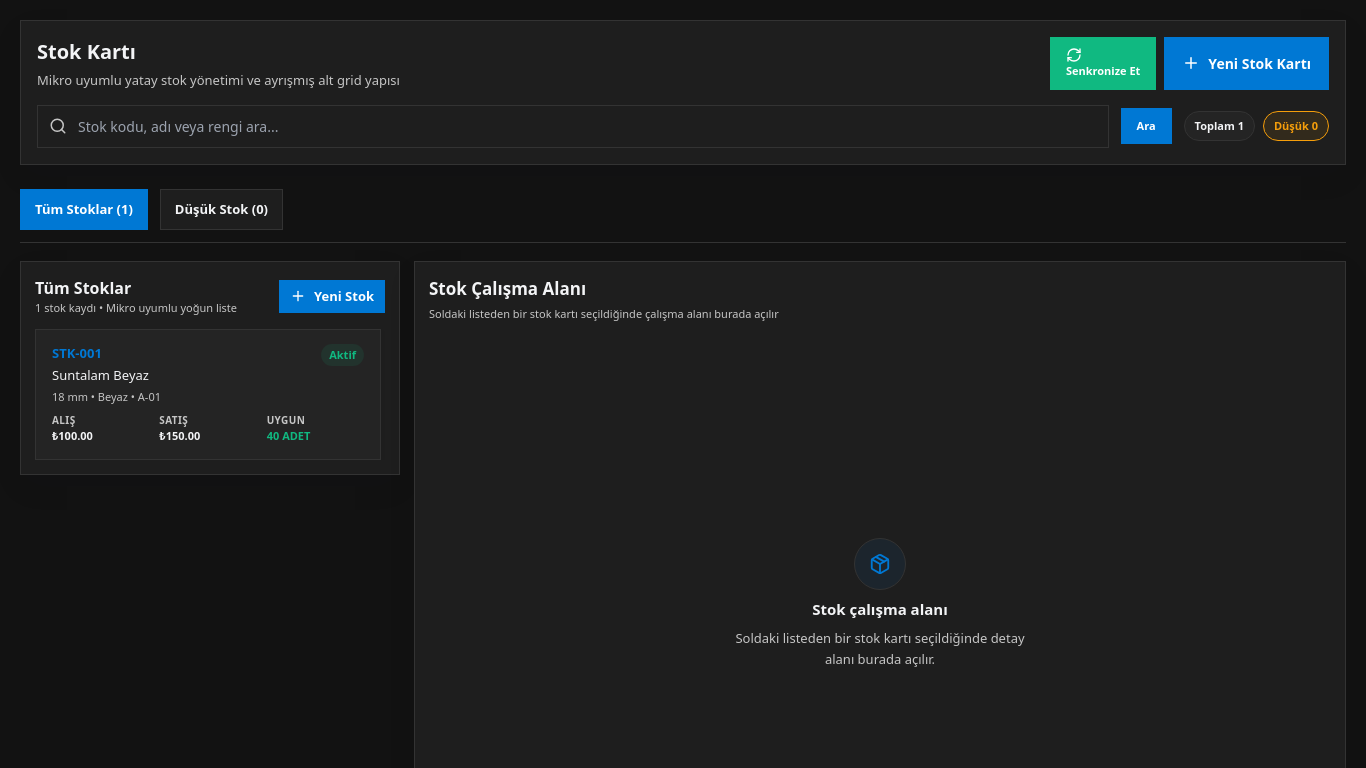
Scenario: StockCardComponent › stok detayinda barkod ve satis fiyat child tablolarini teknik panel ile birlikte gosterir
Click the text "STK-001" at (77, 352), box [52,344,102,362]
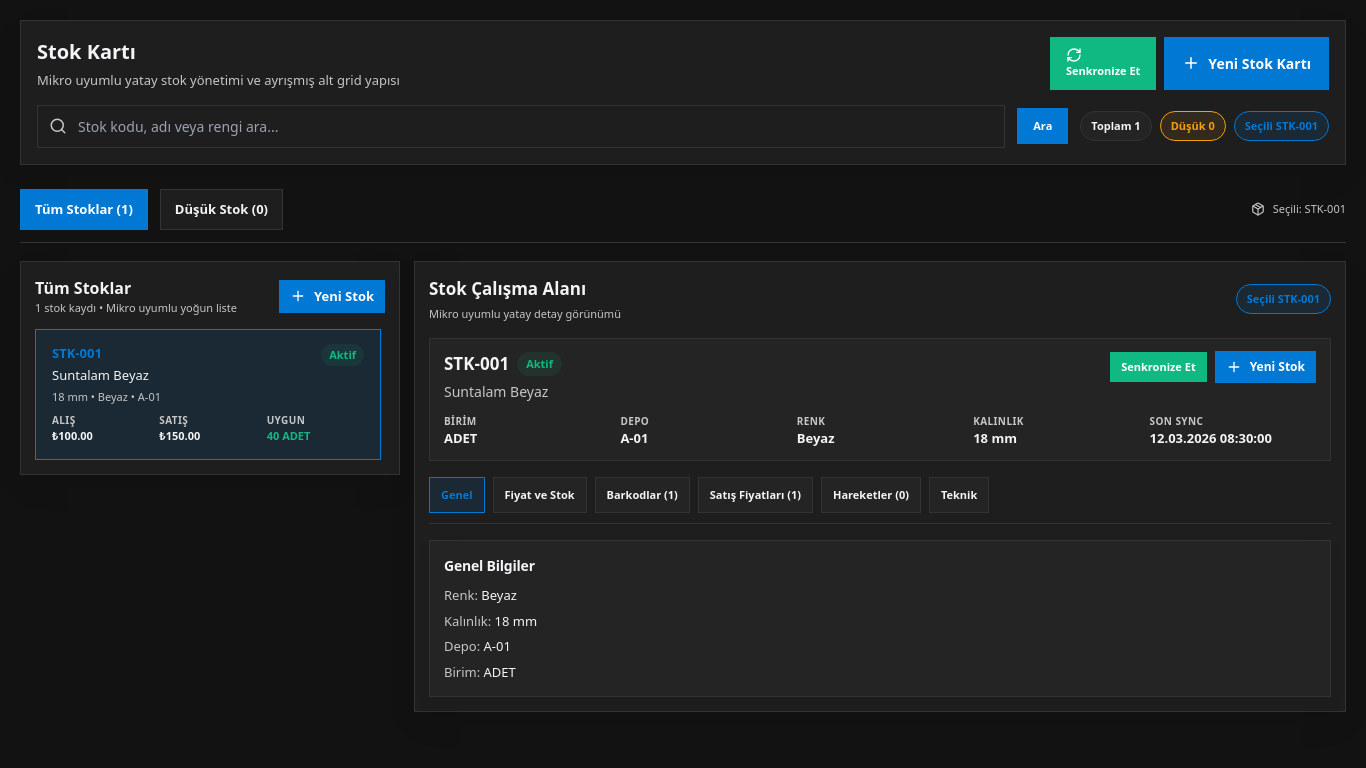
Now the heading "Genel Bilgiler" is shown, box [444,556,535,575]
Click the button "Fiyat ve Stok" at (540, 495), box [493,477,587,513]
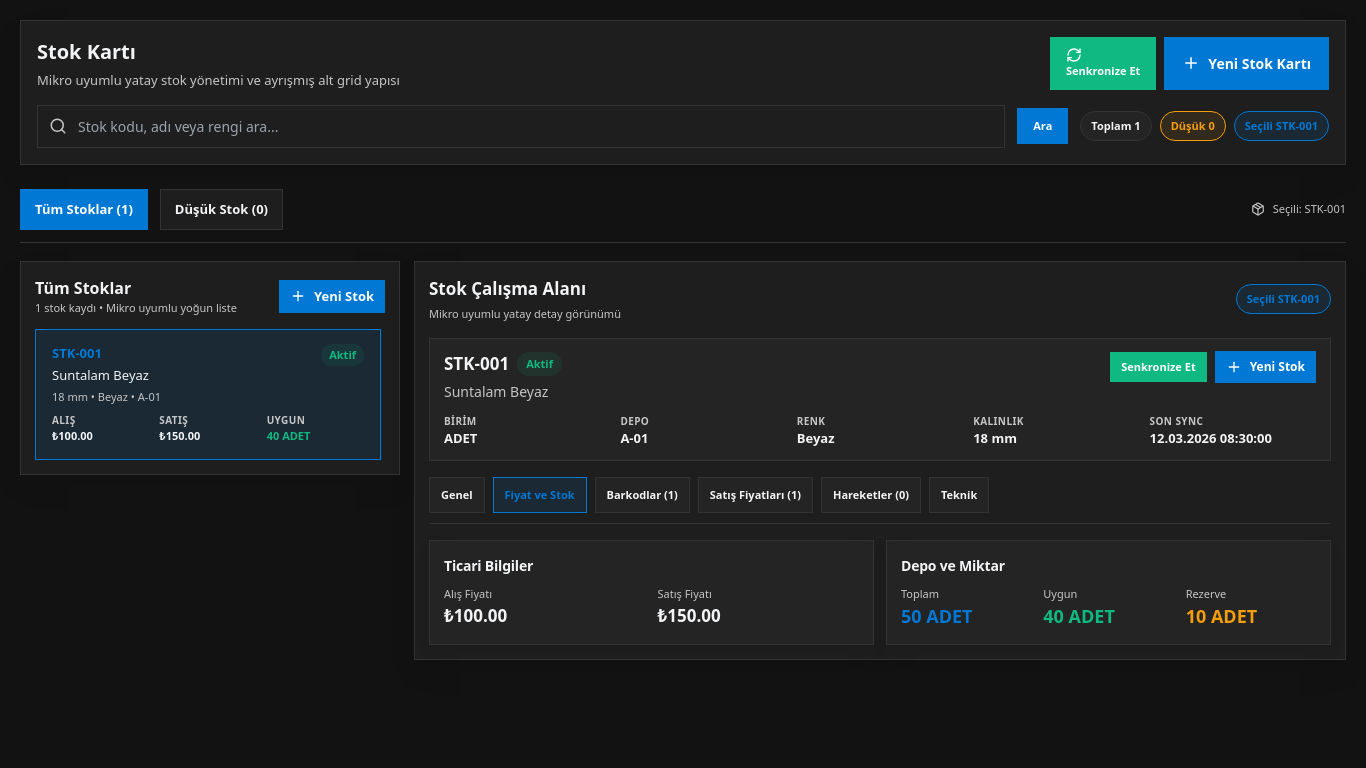
Now the heading "Ticari Bilgiler" is shown, box [444,556,533,575]
Now the heading "Depo ve Miktar" is shown, box [901,556,1005,575]
Click the button "Barkodlar (1)" at (642, 495), box [595,477,690,513]
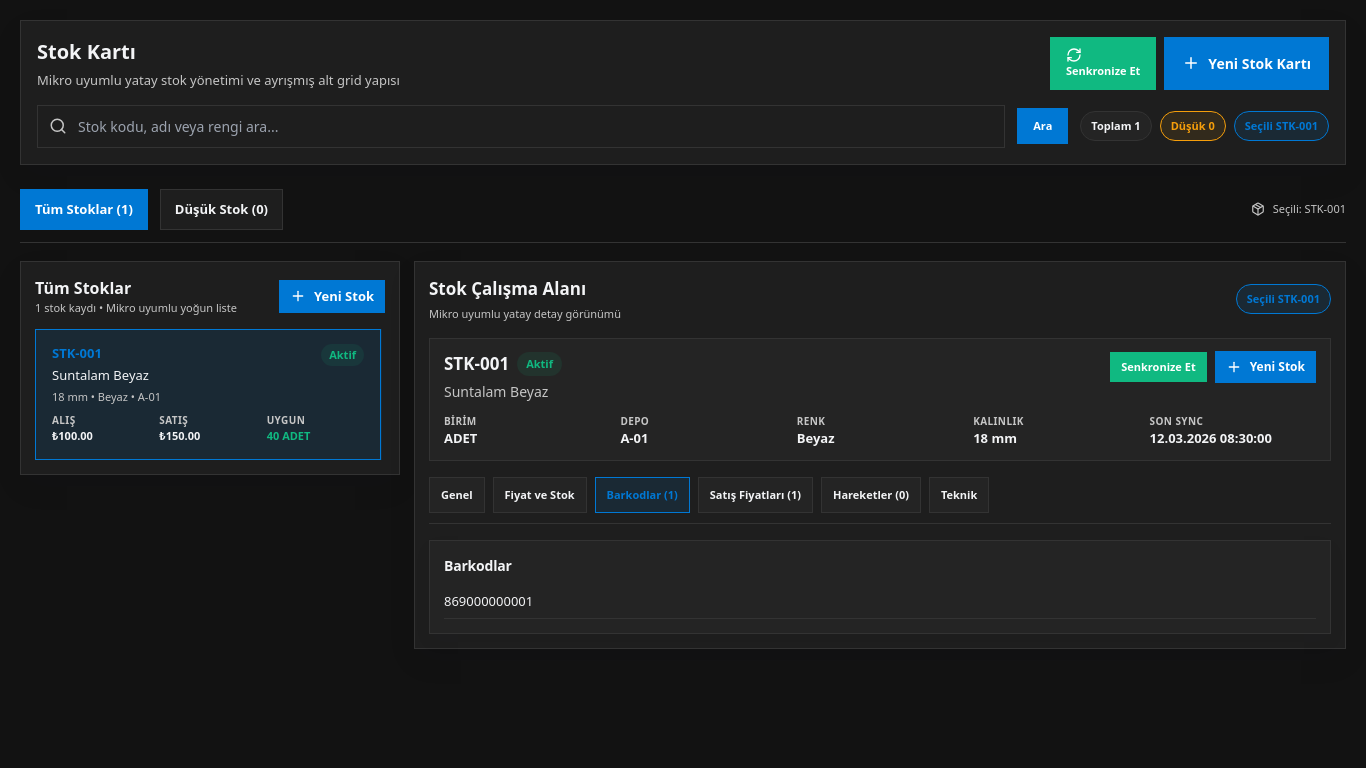
Now the text "869000000001" is shown, box [444,586,1316,618]
Click the button "Satış Fiyatları (1)" at (755, 495), box [698,477,813,513]
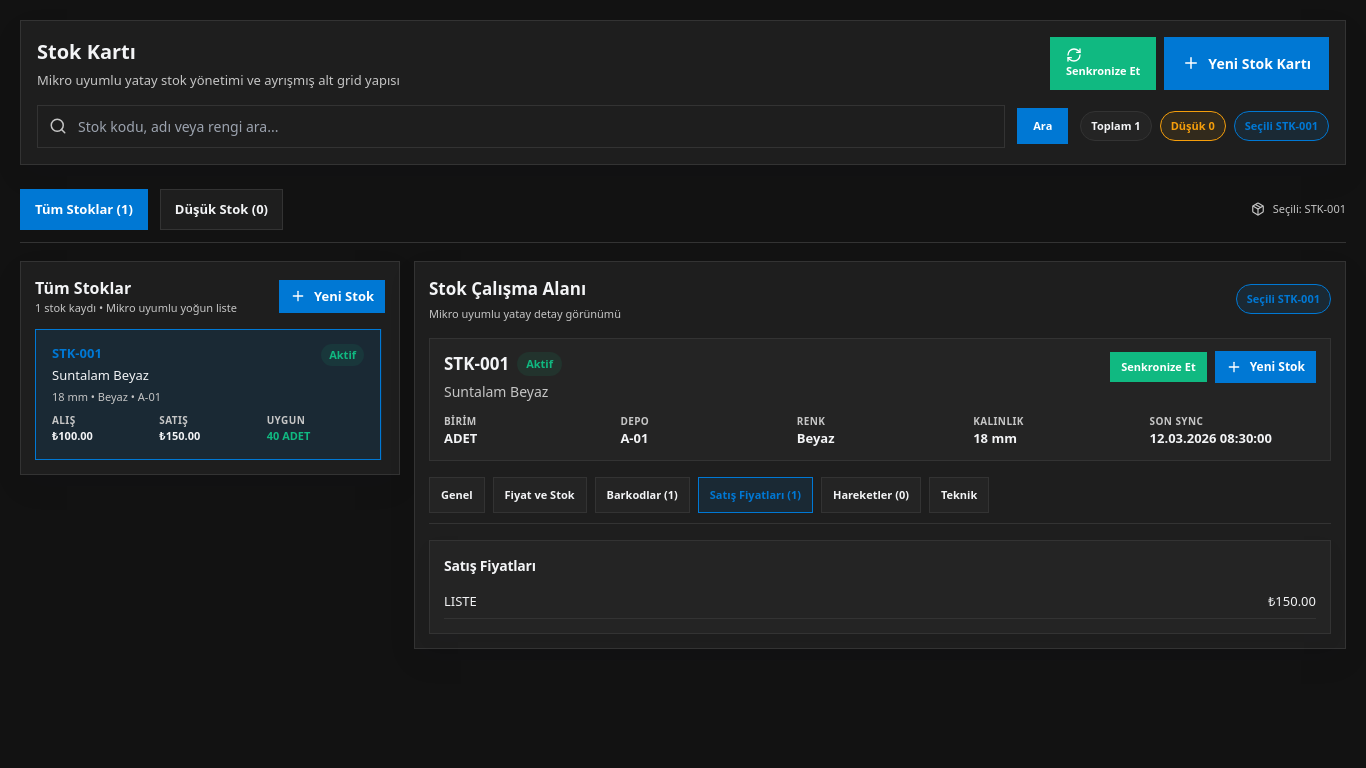
Now the element named "Satış Fiyatları Alt Gridi" is shown, box [444,586,1316,618]
Now the text "LISTE" is shown, box [444,592,477,612]
Click the button "Teknik" at (959, 495), box [929,477,989,513]
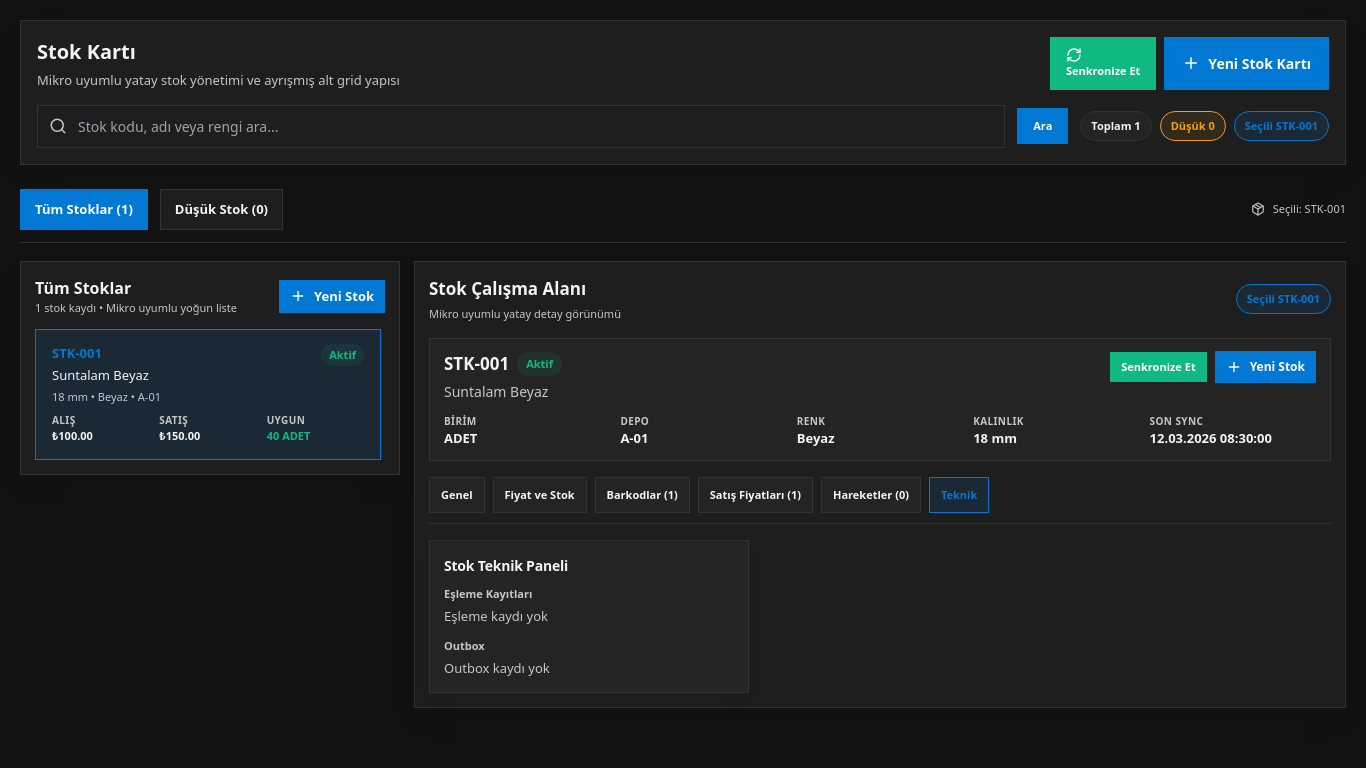
Now the heading "Stok Teknik Paneli" is shown, box [444,556,568,575]
Now the text "Eşleme kaydı yok" is shown, box [444,606,548,624]
Now the text "Outbox kaydı yok" is shown, box [444,658,550,676]
